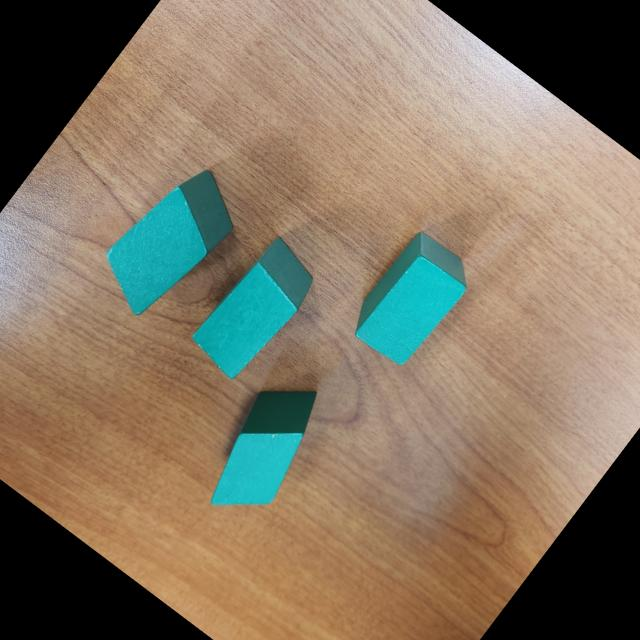green: (86, 150, 253, 332), (187, 362, 342, 532), (184, 231, 326, 387), (342, 225, 481, 374)
